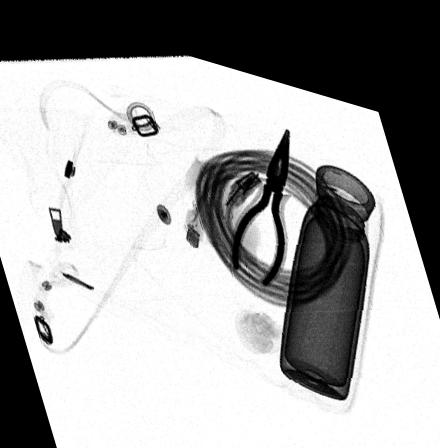Pliers: (229, 111, 289, 273)
